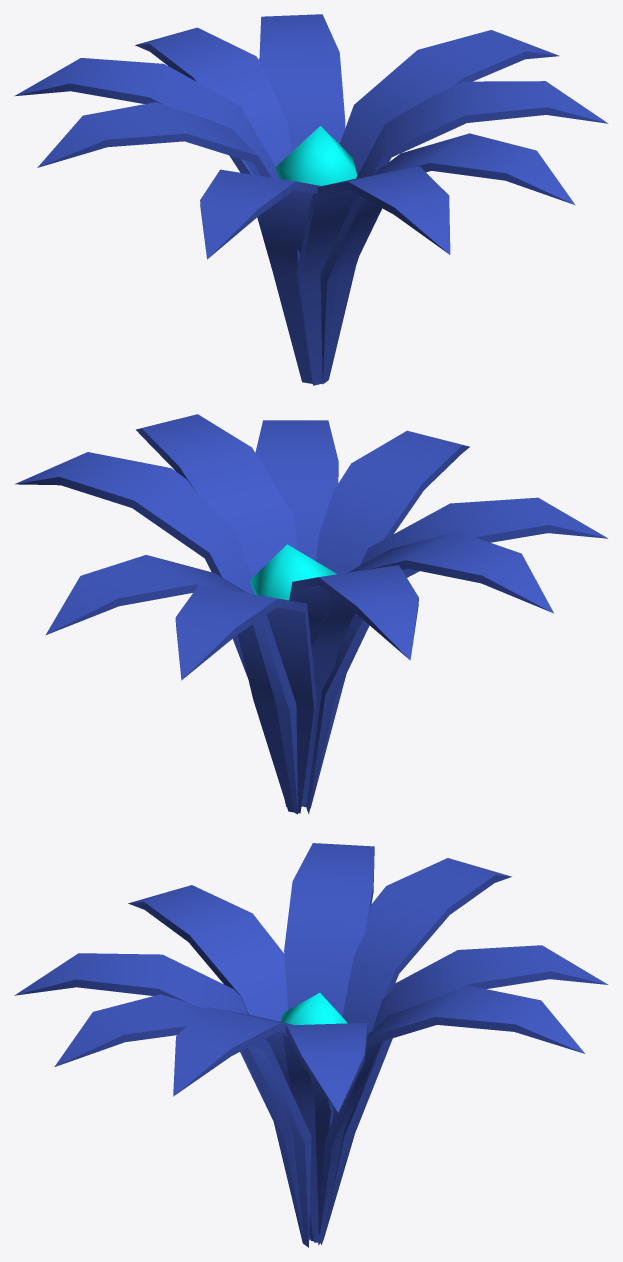
File: fern_1.fbx
The picture shows the model from 3 angles, top to bottom: view 1: azimuth 30°, elevation 25°; view 2: azimuth 150°, elevation 25°; view 3: azimuth 270°, elevation 25°; orthographic projection. The views are drawn at different scales.
Visible parts, largest first — view 1: fern_1; view 2: fern_1; view 3: fern_1.
Boxes of the visible parts, x1,y1,x2,y2 form: fern_1: (14,14,608,385); fern_1: (15,414,607,814); fern_1: (14,843,608,1247).
Size of the model in its own units: 121 by 65.39 by 119.
